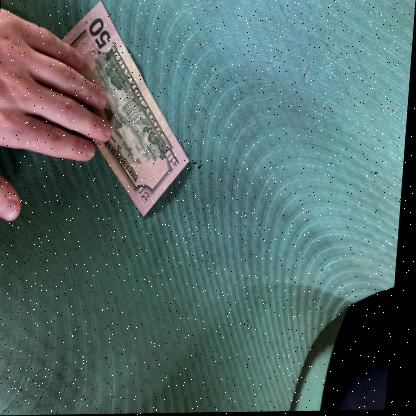fifty-back: (40, 0, 188, 217)
